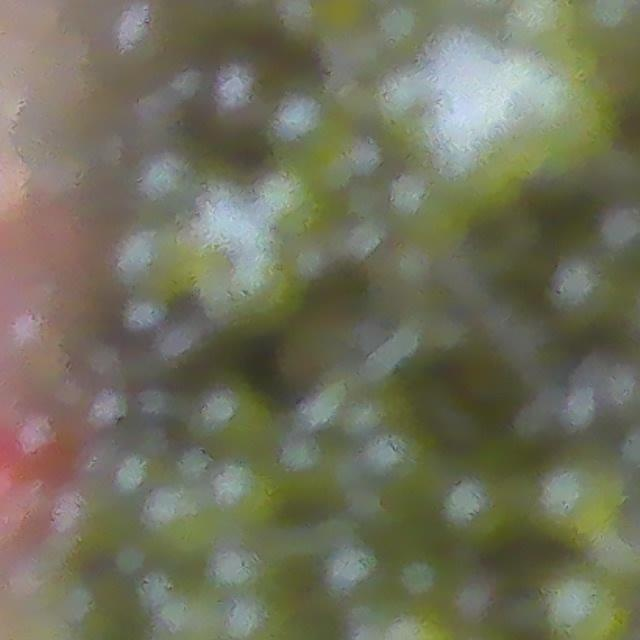SeaGrape: (542, 458, 621, 535), (544, 575, 627, 640), (509, 0, 578, 49)
